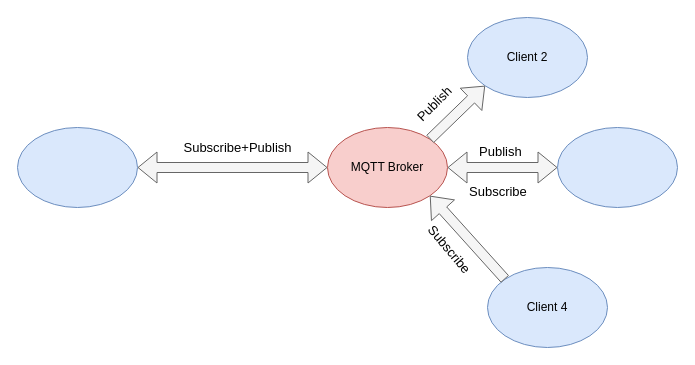
Image size: 695x365. Some labels were removed from this diagram. Each missing label, with the box of its shape:
Client 1: (16, 126, 138, 208)
Client 3: (556, 126, 678, 208)
